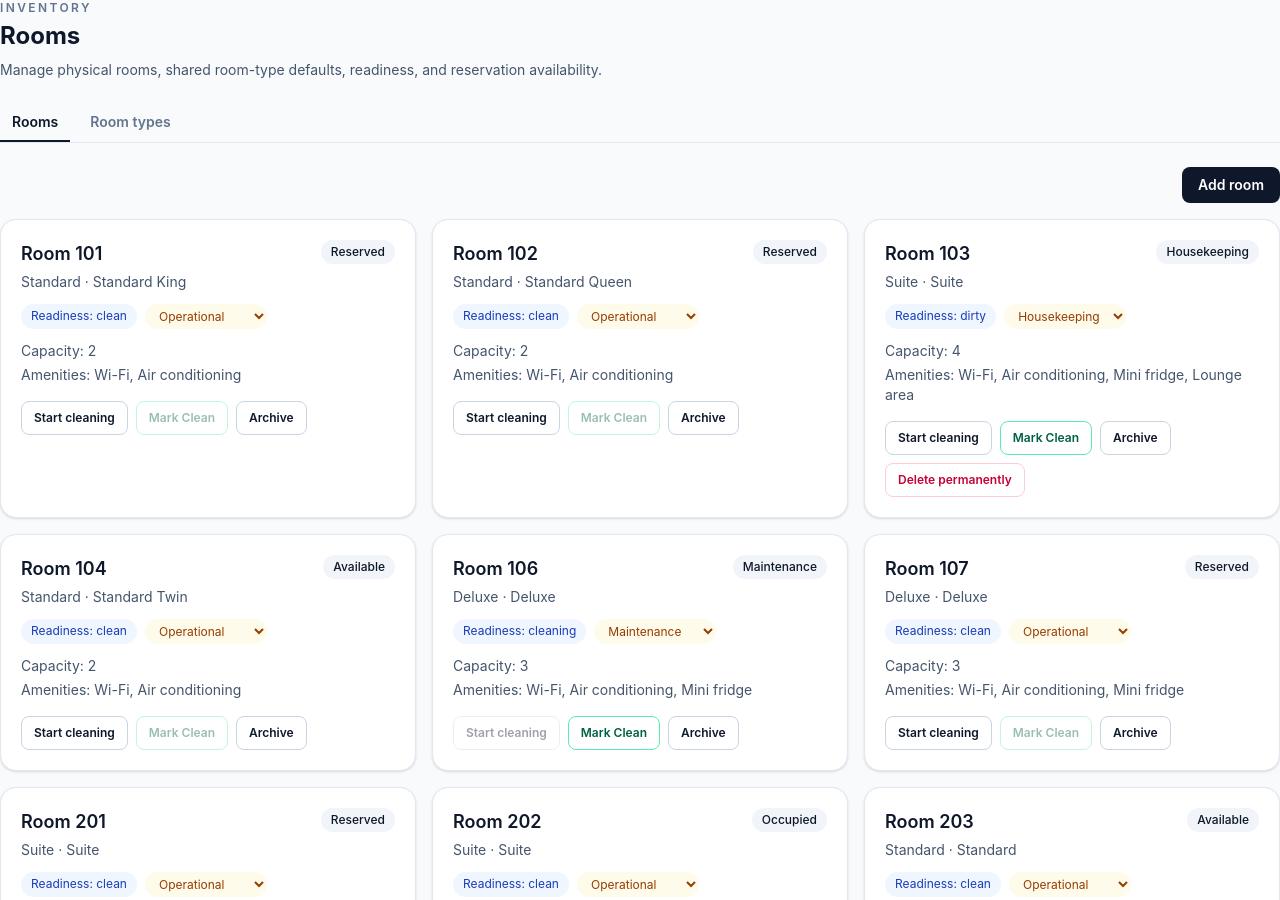
Scenario: room inventory › opens a blank room form from Add room with amenity checkboxes
This screenshot has width=1280, height=900.
Click the button "Add room": (1231, 185) [1182, 167, 1279, 203]
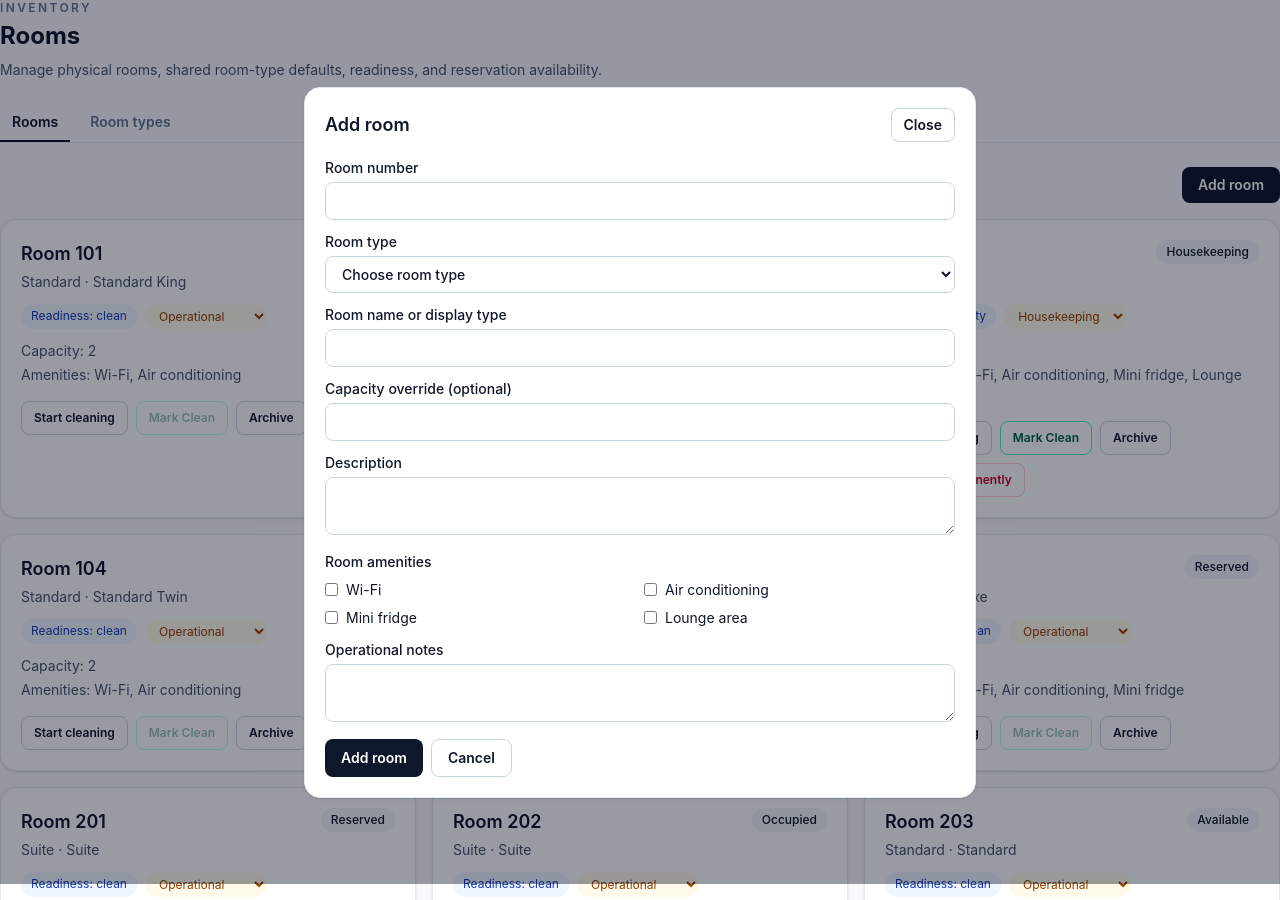
Check: the field labelled "Room number" is empty, box [325, 182, 955, 220]
Check: the checkbox labelled "Wi-Fi" is shown, box [325, 583, 338, 596]
Check: the checkbox labelled "Mini fridge" is shown, box [325, 611, 338, 624]
